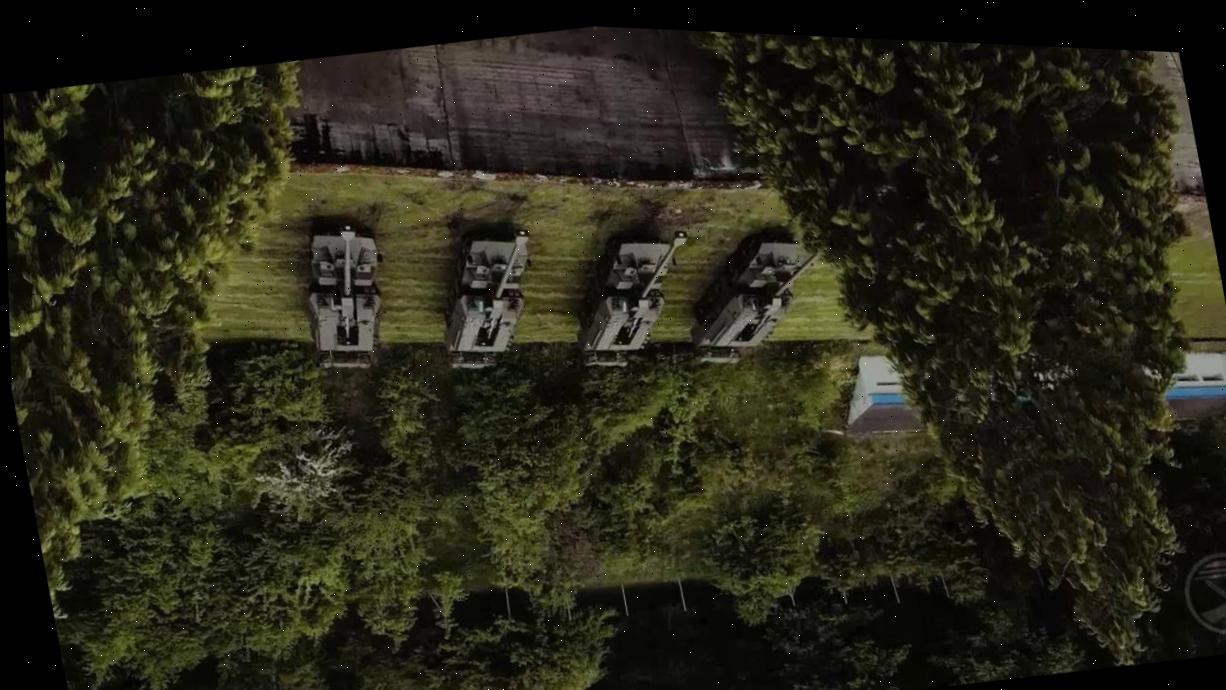sau: (666, 213, 846, 376), (553, 213, 708, 381), (420, 216, 557, 381), (284, 207, 400, 378)
